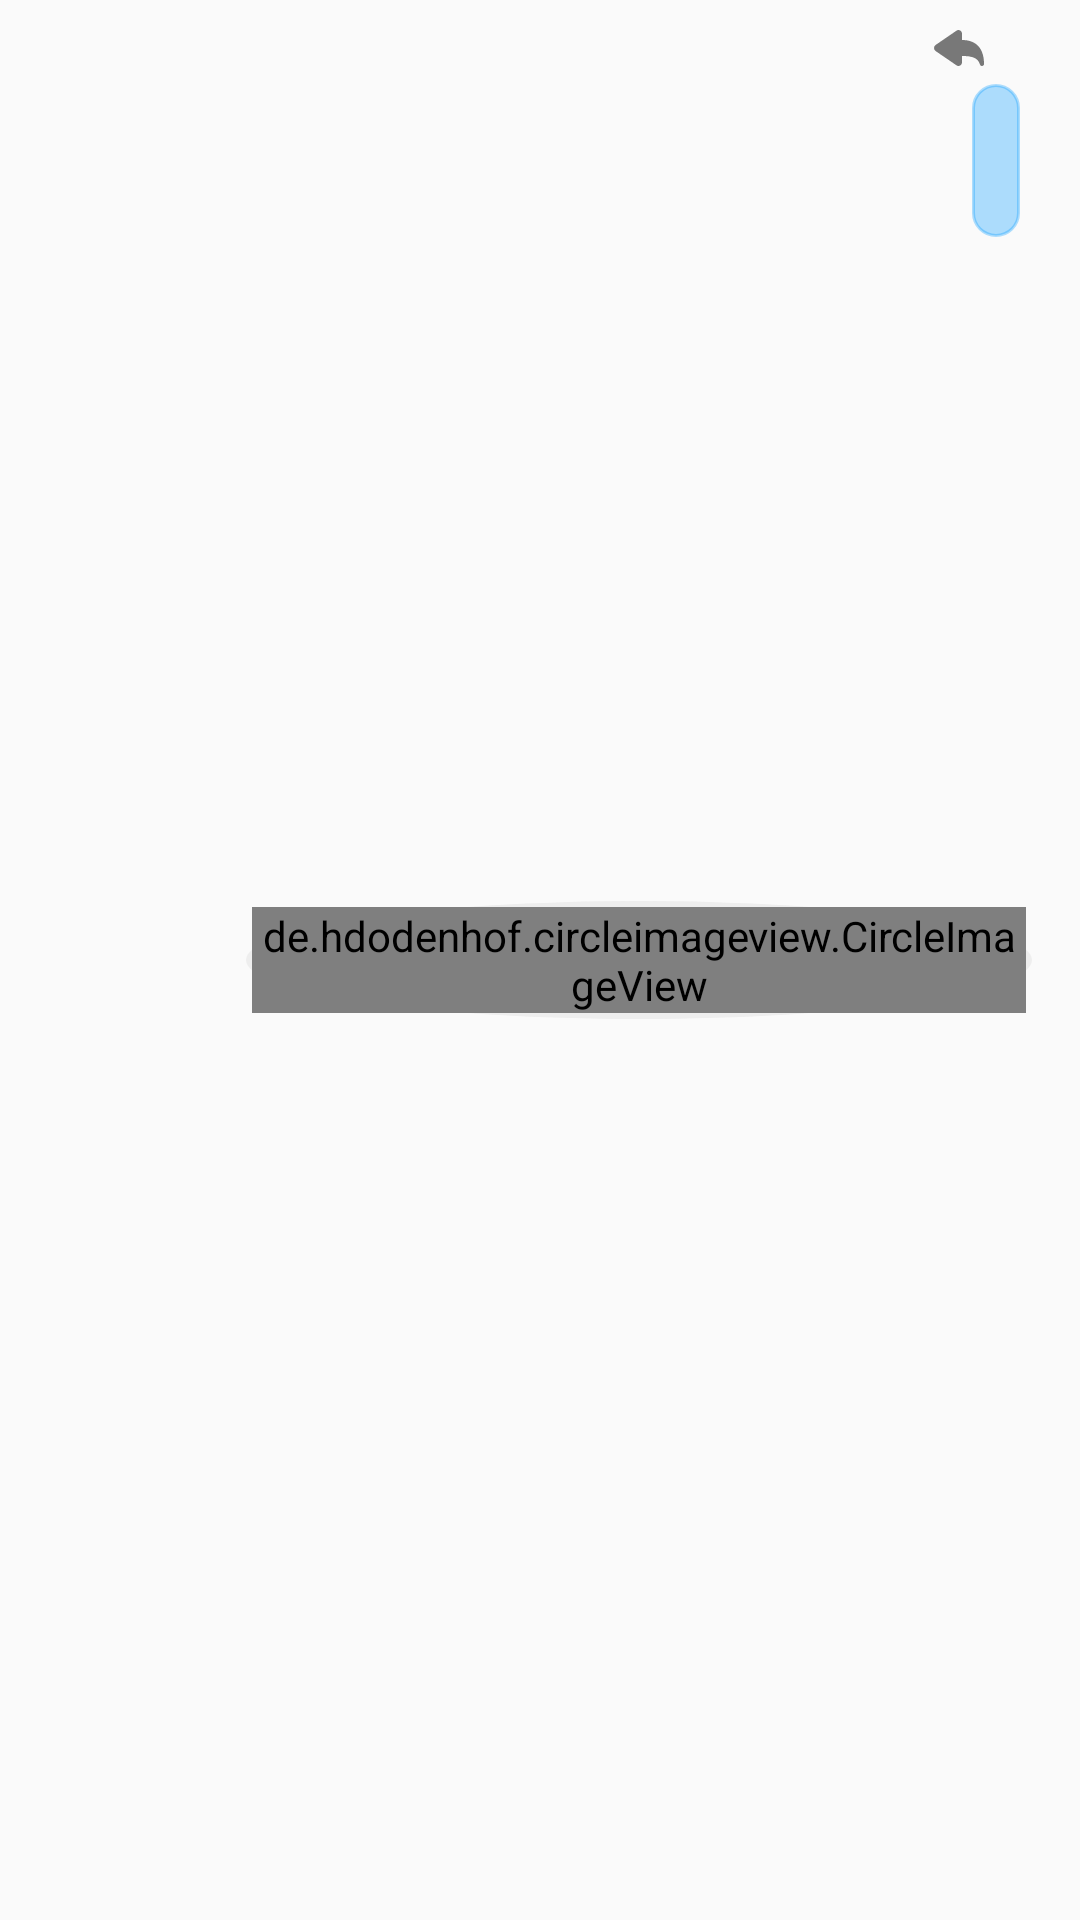

Icon click points for this 1080*1920 phone screenshot, format [x,y]:
reply: [959,48]
